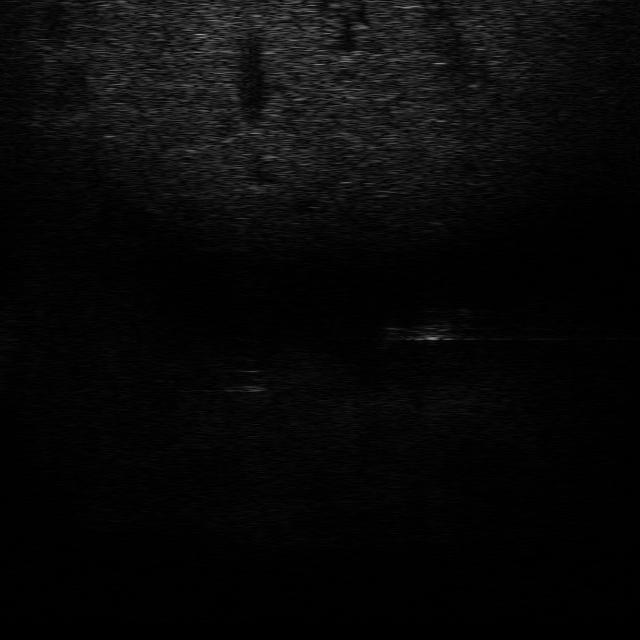ball: (223, 367, 275, 395)
human body: (372, 306, 488, 352)
